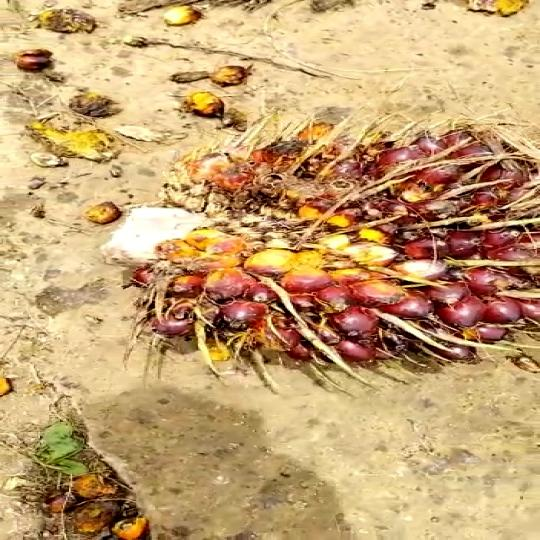masak: (114, 111, 540, 387)
